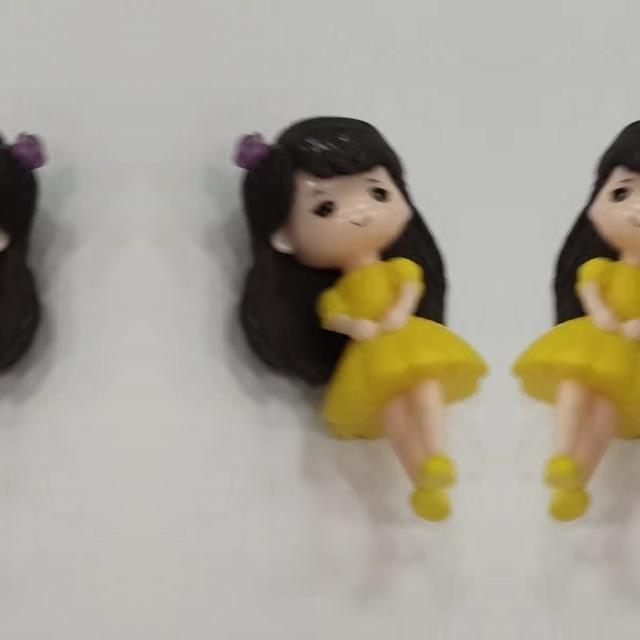woman dress: (294, 238, 498, 522), (501, 237, 640, 522)
woman head: (220, 116, 412, 270), (0, 116, 59, 269), (588, 116, 640, 269)
